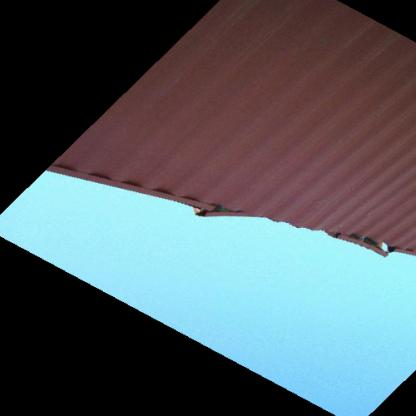Damage: (174, 169, 296, 235), (328, 219, 399, 266)
